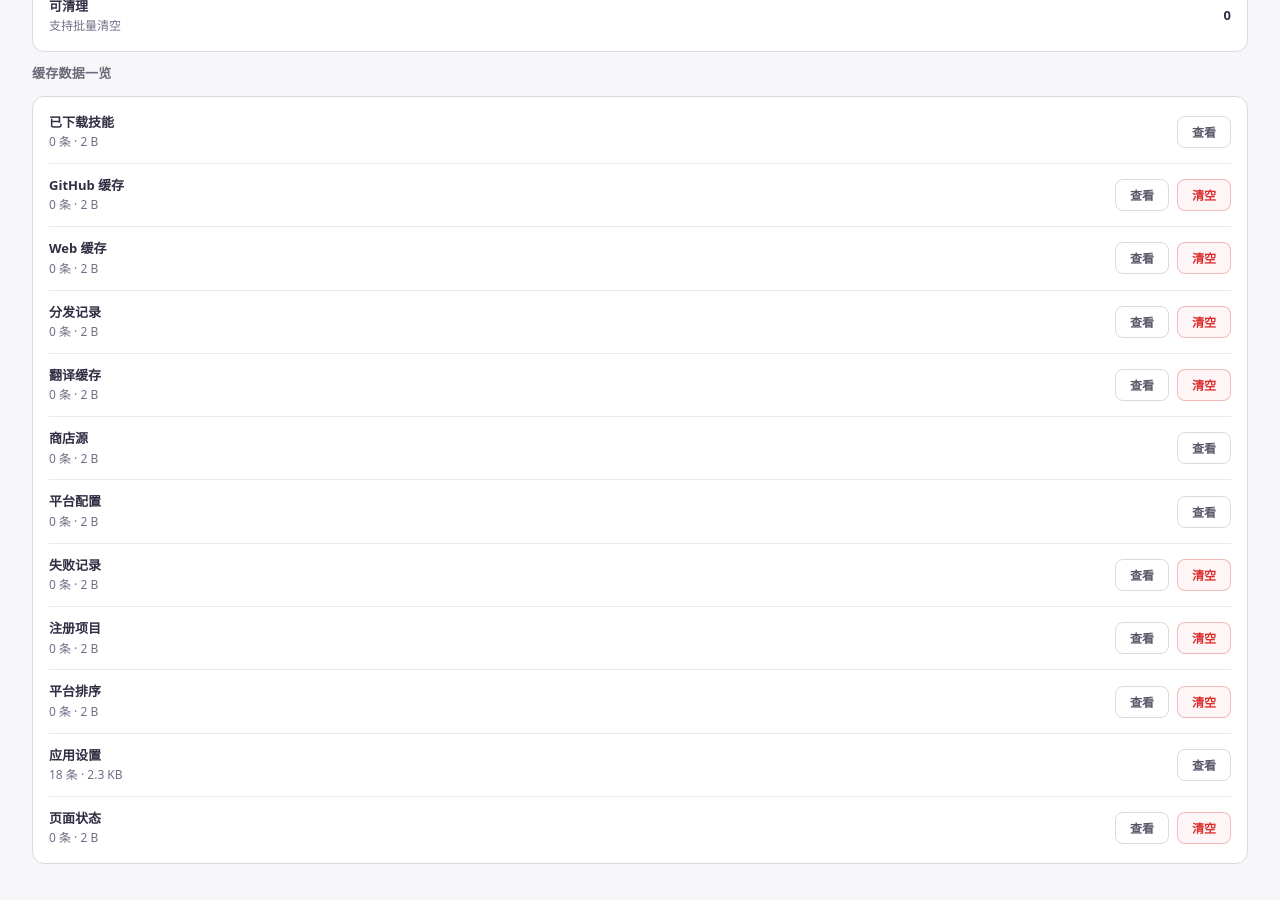
Test: 数据管理查看弹窗 › JSON 数据使用可聚焦的滚动区域展示
This screenshot has width=1280, height=900.
Expected: the element with class "setting-row" showing "应用设置 18 条 · 2.3 KB 查看" is shown, [49, 733, 1231, 784]
Click the button "查看" in the row of "18 条 · 2.3 KB". click: (1204, 765)
box: [1177, 749, 1231, 781]
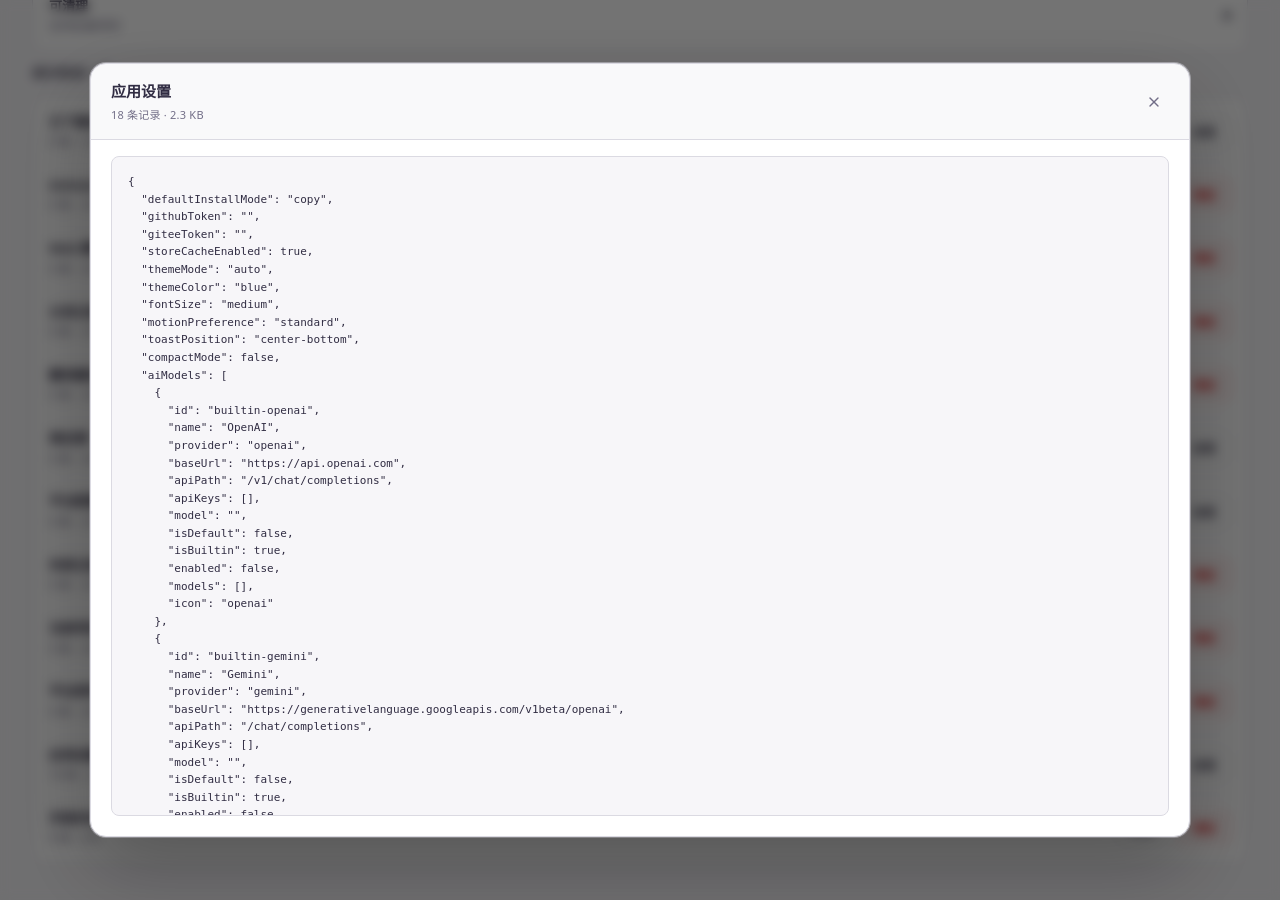
Result: the element with class "dm-json-scroll" is shown
